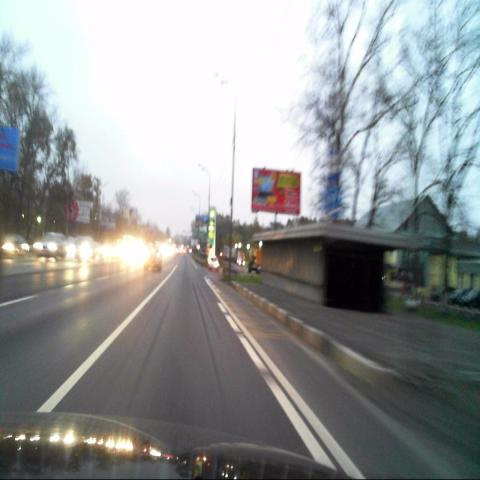5_16: (327, 146, 341, 181)
6_6: (325, 185, 342, 216)
